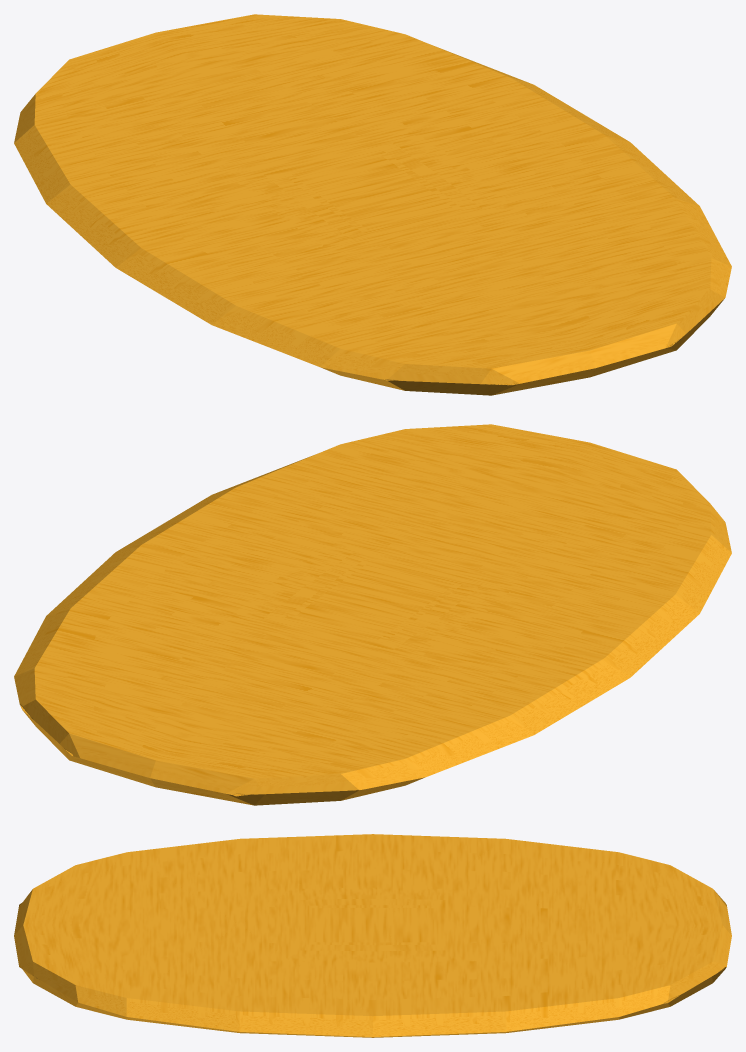
The model's file is item14_2.fbx.
3 renders of one model, top to bottom at view 1: azimuth 30°, elevation 25°; view 2: azimuth 150°, elevation 25°; view 3: azimuth 270°, elevation 25°, orthographic. The views are drawn at different scales.
Parts seen in each view (by area): view 1: Koban.001; view 2: Koban.001; view 3: Koban.001.
Boxes of the visible parts, left/top/right/bottom form: Koban.001: left=14, top=14, right=731, bottom=395; Koban.001: left=14, top=424, right=731, bottom=805; Koban.001: left=14, top=834, right=731, bottom=1037.
Bounding box in the file's own units: 0.3333 × 0.0167 × 0.5.
